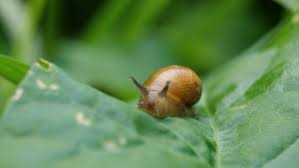snail: (132, 64, 204, 119)
